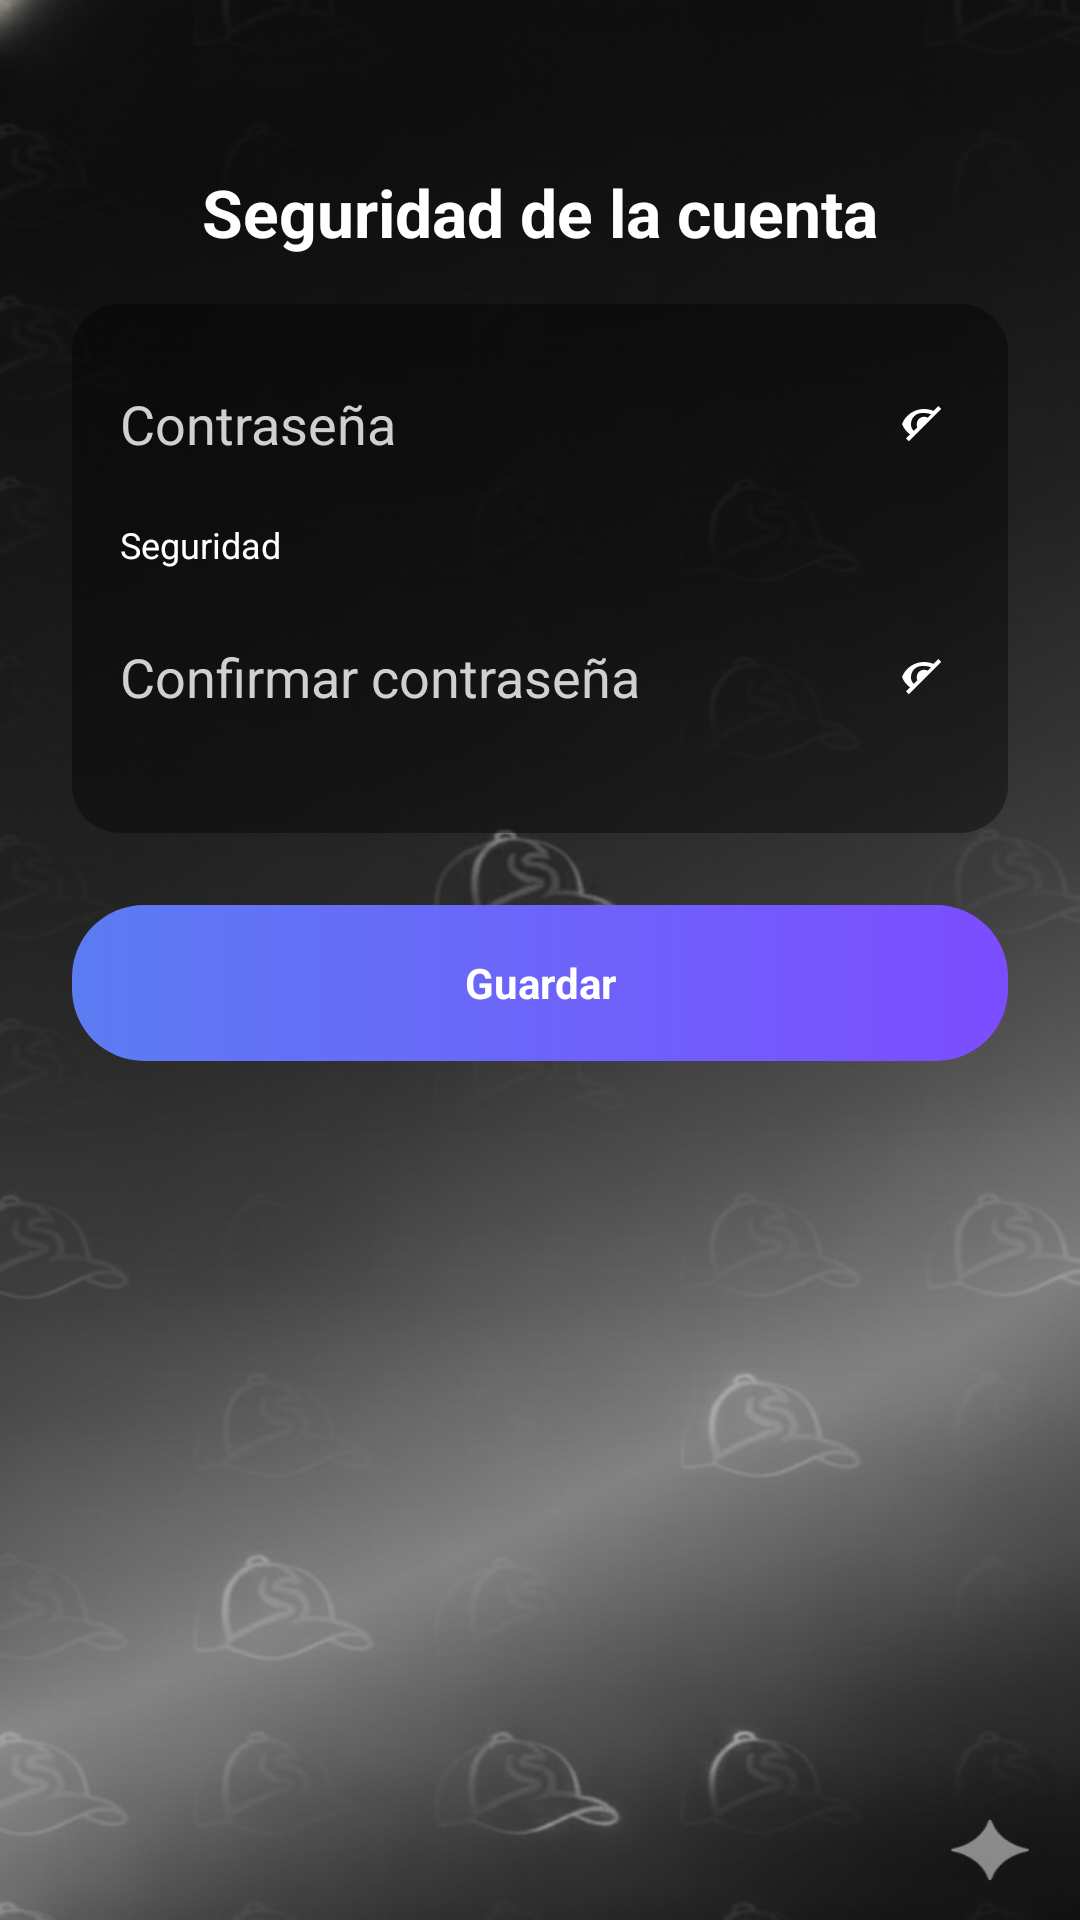

Named icons in this screenshot (1080px×1920px) and their bounding boxes, (x1, y1, x2, y2):
visibility off: (902, 406, 941, 441), (902, 659, 941, 694)
